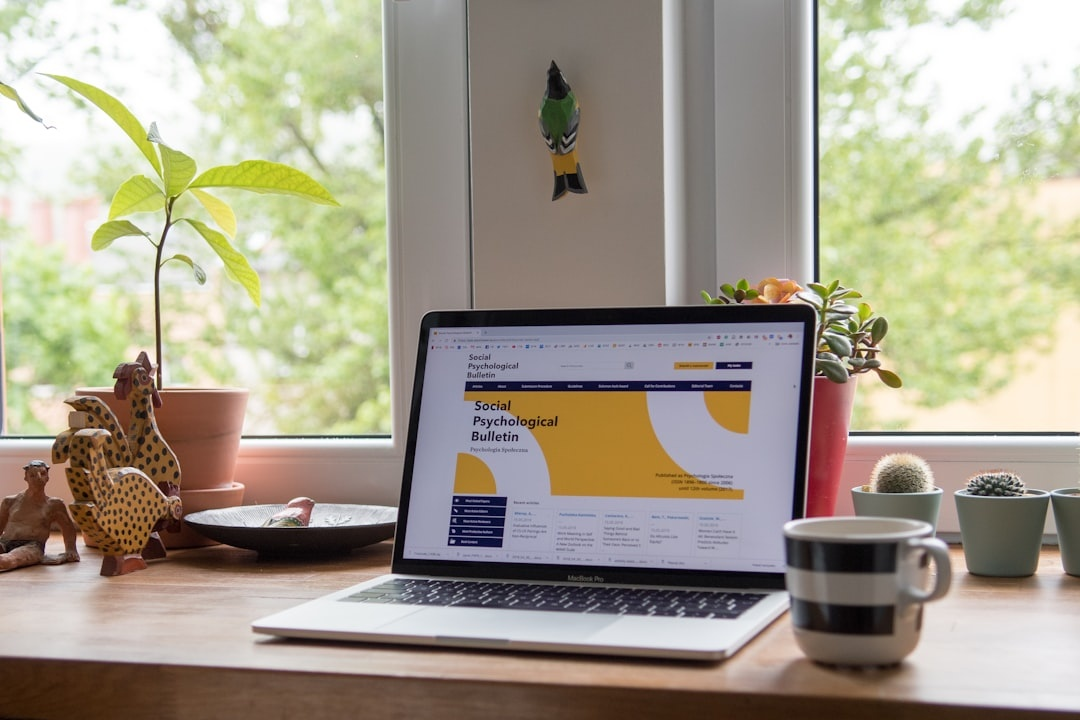laptop: (232, 277, 826, 656)
